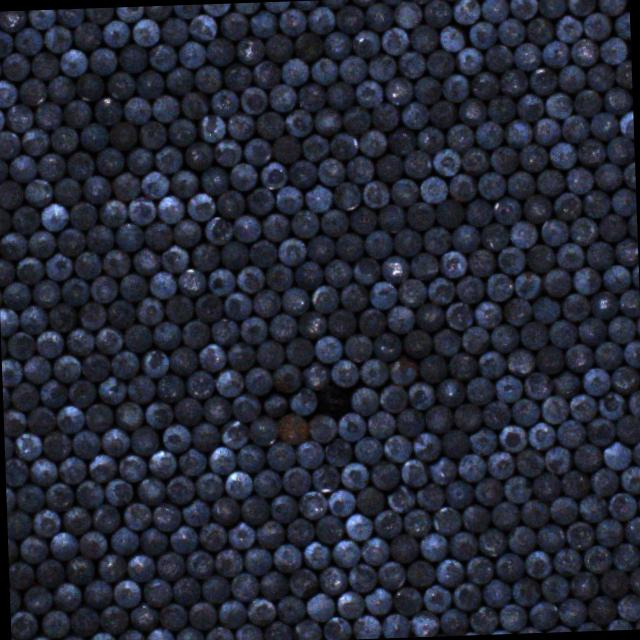tool: (276, 411, 308, 443), (370, 459, 400, 489), (489, 500, 519, 530), (348, 386, 378, 416), (448, 530, 478, 560), (336, 411, 366, 441), (608, 364, 638, 394), (200, 574, 230, 604), (492, 552, 522, 582), (34, 558, 64, 588), (376, 560, 406, 590), (280, 464, 310, 494), (580, 366, 610, 396), (284, 336, 314, 366), (451, 580, 481, 610), (286, 566, 316, 596), (606, 491, 636, 521), (316, 564, 346, 594), (68, 605, 98, 635), (272, 544, 302, 574), (308, 412, 338, 442), (140, 576, 170, 606), (264, 442, 294, 472), (388, 532, 418, 562), (255, 338, 285, 368), (347, 562, 377, 592), (50, 580, 80, 610), (488, 322, 518, 352), (585, 417, 615, 447), (533, 342, 563, 372), (391, 586, 421, 616), (218, 417, 248, 447), (388, 354, 418, 384), (355, 486, 385, 516), (254, 518, 284, 548), (305, 592, 335, 622), (358, 536, 388, 566), (393, 406, 423, 436), (477, 526, 507, 556), (570, 441, 600, 471), (271, 361, 301, 391), (235, 442, 265, 472), (90, 502, 120, 532), (446, 350, 476, 380), (327, 308, 357, 338), (257, 569, 287, 599), (190, 420, 220, 450), (461, 324, 490, 354), (481, 400, 510, 430), (466, 247, 496, 276), (293, 440, 322, 470), (338, 282, 367, 312), (110, 350, 140, 379), (339, 460, 368, 490), (39, 608, 68, 638), (514, 448, 544, 477), (150, 322, 180, 351), (510, 577, 540, 606), (524, 244, 554, 273), (498, 422, 527, 452), (298, 488, 327, 518), (432, 505, 462, 534), (413, 300, 442, 330), (180, 318, 209, 348), (474, 475, 504, 504), (266, 312, 296, 341), (502, 297, 532, 326), (527, 599, 557, 628), (408, 252, 437, 282), (435, 376, 465, 405), (330, 356, 359, 386), (424, 404, 454, 433), (372, 510, 402, 539), (554, 419, 584, 448), (284, 516, 314, 545), (384, 483, 414, 512), (379, 254, 408, 284), (111, 578, 140, 608), (42, 482, 72, 511), (129, 426, 158, 456), (342, 333, 372, 362), (568, 393, 598, 422), (64, 554, 93, 584), (230, 392, 260, 421), (240, 496, 269, 526), (428, 456, 458, 485), (169, 344, 198, 374), (414, 480, 443, 510), (41, 430, 70, 460), (411, 432, 440, 462), (49, 530, 78, 560), (372, 330, 401, 360), (601, 439, 631, 468), (554, 242, 584, 271), (586, 594, 616, 623), (568, 217, 598, 246), (481, 578, 511, 607), (444, 478, 474, 507), (153, 502, 182, 532), (432, 326, 461, 356), (112, 402, 142, 431), (530, 472, 559, 502), (322, 437, 352, 466), (360, 356, 389, 386), (540, 267, 570, 296), (398, 276, 427, 306), (436, 556, 465, 586), (116, 272, 146, 301), (166, 474, 195, 504), (403, 328, 432, 358), (459, 504, 489, 533), (564, 518, 593, 548), (439, 607, 469, 636), (268, 494, 298, 523), (606, 313, 636, 342), (243, 544, 272, 574), (328, 486, 357, 516), (301, 358, 330, 388), (212, 546, 242, 575), (378, 381, 407, 411), (551, 367, 580, 397), (96, 552, 125, 582), (467, 604, 496, 634), (323, 258, 352, 287), (293, 31, 322, 60), (196, 342, 225, 371), (476, 349, 505, 378), (483, 272, 512, 301), (402, 508, 431, 537), (253, 468, 282, 497), (426, 275, 455, 304), (592, 340, 621, 369), (547, 319, 576, 348), (10, 381, 39, 410), (440, 429, 469, 458), (565, 342, 594, 371), (598, 568, 627, 597), (313, 334, 342, 363), (59, 277, 88, 306), (279, 285, 308, 314), (419, 531, 448, 560), (511, 398, 540, 427), (452, 402, 481, 431), (201, 394, 230, 423), (577, 316, 606, 345), (242, 366, 271, 395), (449, 224, 478, 253), (224, 469, 253, 498), (417, 353, 446, 382), (576, 492, 605, 521), (568, 570, 597, 599), (214, 368, 243, 397), (518, 319, 547, 348), (343, 512, 372, 541), (552, 546, 581, 575), (75, 478, 104, 507), (118, 452, 147, 481), (468, 425, 497, 454), (456, 452, 485, 481), (559, 292, 588, 321), (521, 193, 550, 222), (88, 453, 117, 482), (310, 463, 339, 492), (227, 521, 256, 550), (223, 292, 252, 321), (548, 494, 577, 523), (238, 314, 267, 343), (148, 448, 177, 477), (368, 279, 397, 308), (123, 502, 152, 531), (186, 600, 215, 629), (61, 506, 90, 535), (287, 385, 316, 414), (302, 539, 331, 568), (216, 598, 245, 627), (136, 476, 165, 505), (162, 424, 191, 453), (168, 523, 197, 552), (485, 450, 514, 479), (502, 473, 531, 502), (506, 524, 536, 552), (606, 135, 634, 165), (408, 22, 436, 52), (75, 70, 103, 100), (584, 62, 612, 92), (84, 402, 112, 432), (66, 150, 94, 180), (434, 198, 462, 228), (314, 514, 342, 544), (22, 584, 52, 612), (176, 268, 204, 298), (464, 376, 494, 404), (2, 280, 30, 310), (226, 340, 254, 370), (364, 410, 394, 438), (496, 244, 524, 274), (124, 322, 152, 352), (580, 188, 608, 218), (46, 302, 74, 332), (210, 496, 240, 524), (184, 369, 212, 399), (31, 508, 59, 538), (590, 466, 618, 496), (534, 524, 564, 552), (602, 262, 630, 292), (588, 290, 616, 320), (248, 415, 276, 445), (444, 300, 472, 330), (296, 309, 326, 337), (64, 326, 92, 356), (172, 396, 202, 424), (582, 544, 612, 572), (364, 2, 392, 32), (230, 570, 258, 600), (80, 580, 110, 608), (382, 435, 412, 463), (406, 558, 436, 586), (478, 222, 508, 250), (78, 530, 108, 558), (504, 346, 534, 374), (585, 240, 613, 270), (184, 549, 212, 579), (331, 538, 360, 566), (385, 75, 413, 104), (109, 121, 137, 150), (494, 372, 522, 401), (402, 150, 430, 179), (176, 446, 204, 475), (252, 59, 280, 88), (572, 264, 600, 293), (82, 175, 110, 204), (276, 237, 304, 266), (122, 95, 150, 124), (502, 119, 530, 148), (458, 96, 486, 125), (85, 224, 114, 252), (96, 197, 125, 225), (421, 584, 450, 612), (440, 72, 468, 101), (352, 437, 381, 465), (186, 192, 215, 220), (194, 472, 222, 501), (54, 403, 82, 432), (30, 279, 58, 308), (334, 3, 362, 32), (72, 429, 100, 458), (23, 177, 51, 206), (364, 230, 392, 259), (194, 292, 222, 321), (105, 298, 134, 326), (557, 598, 585, 627), (126, 375, 154, 404), (305, 234, 333, 263), (220, 240, 248, 269), (164, 293, 193, 321), (414, 75, 442, 104), (426, 49, 454, 78), (28, 406, 56, 435), (98, 374, 126, 403), (540, 394, 568, 423), (406, 201, 434, 230), (540, 574, 568, 603), (103, 477, 132, 505), (117, 42, 145, 71), (4, 102, 32, 131), (506, 168, 534, 197), (406, 379, 434, 408), (82, 351, 110, 380), (612, 541, 640, 570), (551, 191, 579, 220), (252, 287, 280, 316), (99, 604, 128, 632), (494, 195, 522, 224), (560, 468, 588, 497), (522, 369, 550, 398), (594, 517, 622, 546), (293, 262, 322, 290), (140, 349, 168, 378), (207, 445, 236, 473), (29, 458, 57, 487), (526, 420, 554, 449), (172, 576, 200, 605), (131, 245, 159, 274), (497, 602, 526, 630), (100, 428, 128, 457), (308, 284, 337, 312), (16, 483, 44, 512), (198, 522, 226, 551), (204, 215, 232, 244), (134, 295, 162, 324), (180, 497, 208, 526), (604, 86, 632, 115), (464, 554, 493, 582), (520, 498, 548, 527), (453, 274, 482, 302), (138, 526, 167, 554), (110, 526, 138, 555), (156, 372, 184, 401), (384, 304, 413, 332), (597, 212, 625, 241), (363, 586, 391, 615), (357, 306, 386, 334), (513, 269, 541, 298), (126, 553, 155, 581), (209, 316, 238, 344), (276, 593, 304, 622), (473, 300, 502, 328), (456, 46, 483, 76), (197, 112, 224, 142), (67, 200, 94, 230), (512, 42, 540, 70), (259, 162, 287, 190), (500, 67, 528, 95), (231, 214, 259, 242), (243, 137, 271, 165), (393, 1, 421, 29), (23, 355, 51, 383), (222, 62, 250, 90), (94, 146, 122, 174), (400, 100, 428, 128), (44, 253, 72, 281), (438, 249, 466, 277), (264, 33, 292, 61), (366, 54, 394, 82), (574, 88, 602, 116), (282, 108, 310, 136), (102, 18, 130, 46), (26, 228, 54, 256), (296, 83, 324, 111), (88, 48, 116, 76), (589, 112, 617, 140), (338, 56, 366, 84), (206, 36, 234, 64), (111, 172, 139, 200), (474, 121, 502, 149), (34, 329, 62, 357), (228, 162, 256, 190), (167, 116, 195, 144), (396, 51, 424, 79), (358, 128, 386, 156), (381, 26, 409, 54), (63, 100, 91, 128), (80, 121, 108, 149), (508, 220, 536, 248), (484, 44, 512, 72), (582, 12, 610, 40), (8, 154, 36, 182), (432, 146, 460, 174), (240, 87, 268, 115), (17, 78, 45, 106), (278, 8, 306, 36), (326, 82, 354, 110), (160, 244, 188, 272), (393, 228, 421, 256), (93, 326, 121, 354), (518, 142, 546, 170), (270, 134, 298, 162), (290, 208, 318, 236), (215, 188, 243, 216), (370, 102, 398, 130), (576, 137, 604, 165), (58, 456, 86, 484), (548, 140, 576, 168), (334, 232, 362, 260), (114, 222, 142, 250), (106, 70, 134, 98), (464, 198, 492, 226), (329, 130, 357, 158), (273, 184, 301, 212), (180, 91, 208, 119), (208, 90, 236, 118), (12, 25, 40, 53), (144, 222, 172, 250), (376, 204, 404, 232), (20, 126, 48, 154), (288, 160, 316, 188), (38, 380, 66, 408), (92, 97, 120, 125), (318, 208, 346, 236), (130, 16, 158, 44), (77, 300, 105, 328), (48, 124, 76, 152), (344, 156, 372, 184), (246, 185, 274, 213), (310, 56, 338, 84), (336, 590, 364, 618), (314, 108, 342, 136), (470, 70, 498, 98), (42, 24, 70, 52), (67, 378, 95, 406), (148, 270, 176, 298), (28, 52, 56, 80), (487, 94, 515, 122), (200, 166, 228, 194), (600, 36, 628, 64), (147, 42, 175, 70), (532, 294, 560, 322), (524, 550, 552, 578), (139, 170, 167, 198), (169, 169, 197, 197), (190, 242, 218, 270), (592, 161, 620, 189), (182, 140, 210, 168), (158, 602, 186, 630), (100, 248, 128, 276), (414, 124, 442, 152), (260, 214, 288, 242), (220, 12, 248, 40), (20, 534, 48, 562), (249, 239, 277, 267), (374, 154, 402, 182), (246, 598, 274, 626), (540, 218, 568, 246), (144, 399, 172, 427), (53, 354, 81, 382), (388, 126, 416, 154), (264, 264, 292, 292), (156, 552, 184, 580), (597, 390, 625, 418), (136, 70, 163, 99), (332, 180, 359, 209), (40, 202, 67, 231), (156, 193, 183, 222), (447, 171, 474, 200), (11, 204, 38, 233), (140, 120, 167, 149), (422, 225, 449, 254), (255, 109, 282, 138), (399, 458, 426, 487), (542, 445, 569, 474), (614, 414, 640, 444), (130, 604, 160, 630), (420, 176, 448, 203), (558, 63, 585, 91), (316, 158, 343, 186), (491, 144, 518, 172), (15, 255, 42, 283), (497, 16, 524, 44), (19, 304, 46, 332), (2, 51, 29, 79), (56, 228, 84, 255), (53, 177, 80, 205), (61, 47, 88, 75), (154, 146, 182, 173), (178, 40, 205, 68), (361, 179, 388, 207), (37, 152, 64, 180), (237, 36, 264, 64), (171, 218, 198, 246), (541, 40, 568, 68), (188, 14, 215, 42), (352, 29, 379, 57), (445, 124, 472, 152), (151, 95, 178, 123), (553, 14, 580, 42), (46, 74, 73, 102), (429, 98, 456, 126), (72, 250, 99, 278), (235, 266, 262, 294), (163, 67, 190, 95), (355, 80, 382, 108), (12, 432, 40, 459), (308, 6, 335, 34), (213, 137, 240, 165), (341, 106, 368, 134), (32, 102, 59, 130), (193, 65, 220, 93), (160, 15, 187, 43), (536, 167, 564, 194), (303, 184, 330, 212), (526, 16, 553, 44), (206, 268, 233, 296), (468, 20, 495, 48), (126, 197, 154, 224), (73, 22, 101, 49), (6, 331, 34, 358), (225, 110, 252, 138), (249, 10, 276, 38), (351, 256, 378, 284), (610, 186, 636, 215), (409, 610, 438, 636), (323, 31, 350, 58), (126, 146, 153, 173), (459, 146, 486, 173), (391, 177, 418, 204), (268, 84, 294, 112), (282, 57, 308, 85), (90, 275, 116, 303), (478, 170, 504, 198), (562, 115, 588, 143), (516, 92, 542, 120), (572, 36, 598, 64), (528, 66, 554, 94), (10, 610, 36, 638), (300, 134, 328, 160), (533, 118, 559, 146), (320, 615, 349, 640), (380, 613, 409, 638), (350, 614, 379, 639), (614, 238, 638, 268), (348, 206, 374, 233), (544, 92, 571, 118), (564, 165, 590, 192), (424, 0, 452, 25), (262, 392, 288, 418), (438, 23, 463, 50), (0, 230, 24, 258), (8, 561, 32, 589), (616, 592, 640, 620), (291, 617, 320, 640), (5, 457, 28, 485), (3, 408, 26, 436), (6, 508, 28, 537), (262, 619, 292, 640), (451, 0, 478, 23), (618, 288, 640, 316), (619, 464, 640, 493), (0, 179, 21, 208), (478, 0, 505, 21), (508, 0, 536, 19), (26, 9, 54, 28), (1, 356, 20, 384), (622, 514, 640, 543), (234, 622, 263, 640), (622, 338, 640, 367), (614, 60, 632, 89), (0, 10, 24, 30), (536, 0, 564, 17), (0, 306, 17, 334), (0, 129, 17, 157), (55, 8, 83, 25), (204, 624, 233, 640), (625, 386, 640, 415), (173, 625, 202, 640), (619, 109, 634, 137), (615, 12, 630, 40), (115, 6, 142, 21), (598, 0, 626, 14), (567, 0, 595, 14), (0, 79, 14, 107), (84, 8, 112, 22), (622, 160, 636, 188), (145, 6, 172, 20), (144, 627, 173, 640), (114, 627, 143, 640), (171, 5, 198, 18), (626, 209, 638, 238), (0, 30, 12, 58), (232, 2, 259, 14), (0, 258, 12, 285), (604, 618, 631, 630), (629, 565, 640, 594), (201, 4, 229, 15), (262, 1, 290, 12), (572, 621, 602, 631), (0, 206, 10, 234), (10, 586, 20, 614), (8, 536, 18, 563), (87, 631, 116, 640), (292, 0, 318, 10), (631, 439, 640, 466), (515, 626, 544, 634), (6, 483, 14, 511), (543, 624, 571, 632), (630, 262, 638, 290), (321, 0, 348, 8), (4, 434, 12, 460), (57, 633, 86, 640), (0, 155, 7, 182), (485, 628, 513, 634), (454, 630, 482, 636), (634, 311, 640, 339), (0, 333, 6, 360), (349, 0, 375, 6), (3, 384, 8, 412), (26, 636, 55, 640), (377, 0, 404, 4), (637, 489, 640, 518), (0, 106, 3, 133), (635, 615, 640, 629), (406, 0, 434, 2), (11, 637, 23, 640)
tool_b: (316, 384, 350, 416)
